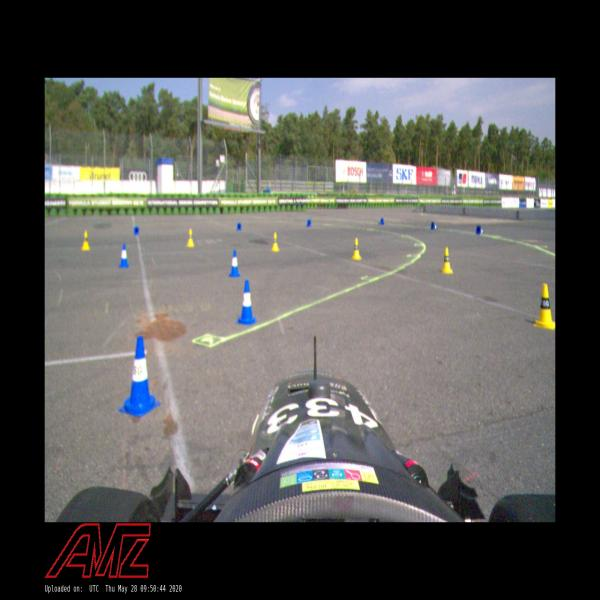blue_cone: (118, 336, 161, 417), (236, 280, 257, 326), (228, 249, 242, 278), (117, 244, 130, 268), (475, 225, 484, 235), (133, 225, 140, 235), (430, 222, 438, 230), (306, 219, 312, 227), (378, 217, 384, 225), (237, 222, 242, 231)
yellow_cone: (534, 282, 555, 329), (442, 248, 453, 274), (352, 237, 362, 260), (80, 230, 90, 251), (271, 232, 280, 252), (186, 228, 194, 248)
